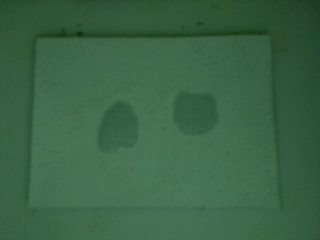Water_detected: (178, 94, 222, 141), (104, 111, 141, 151)
